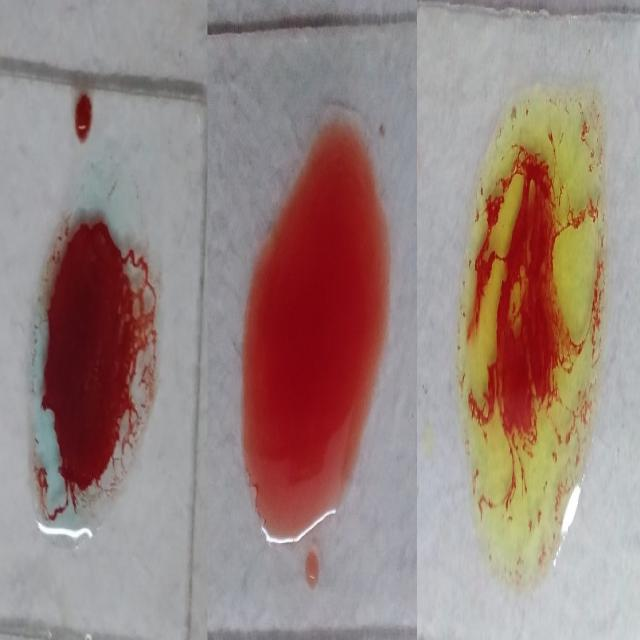A: (30, 143, 156, 544)
B: (457, 67, 606, 582)
